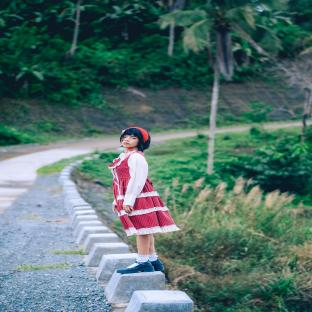Human: (109, 127, 179, 274)
